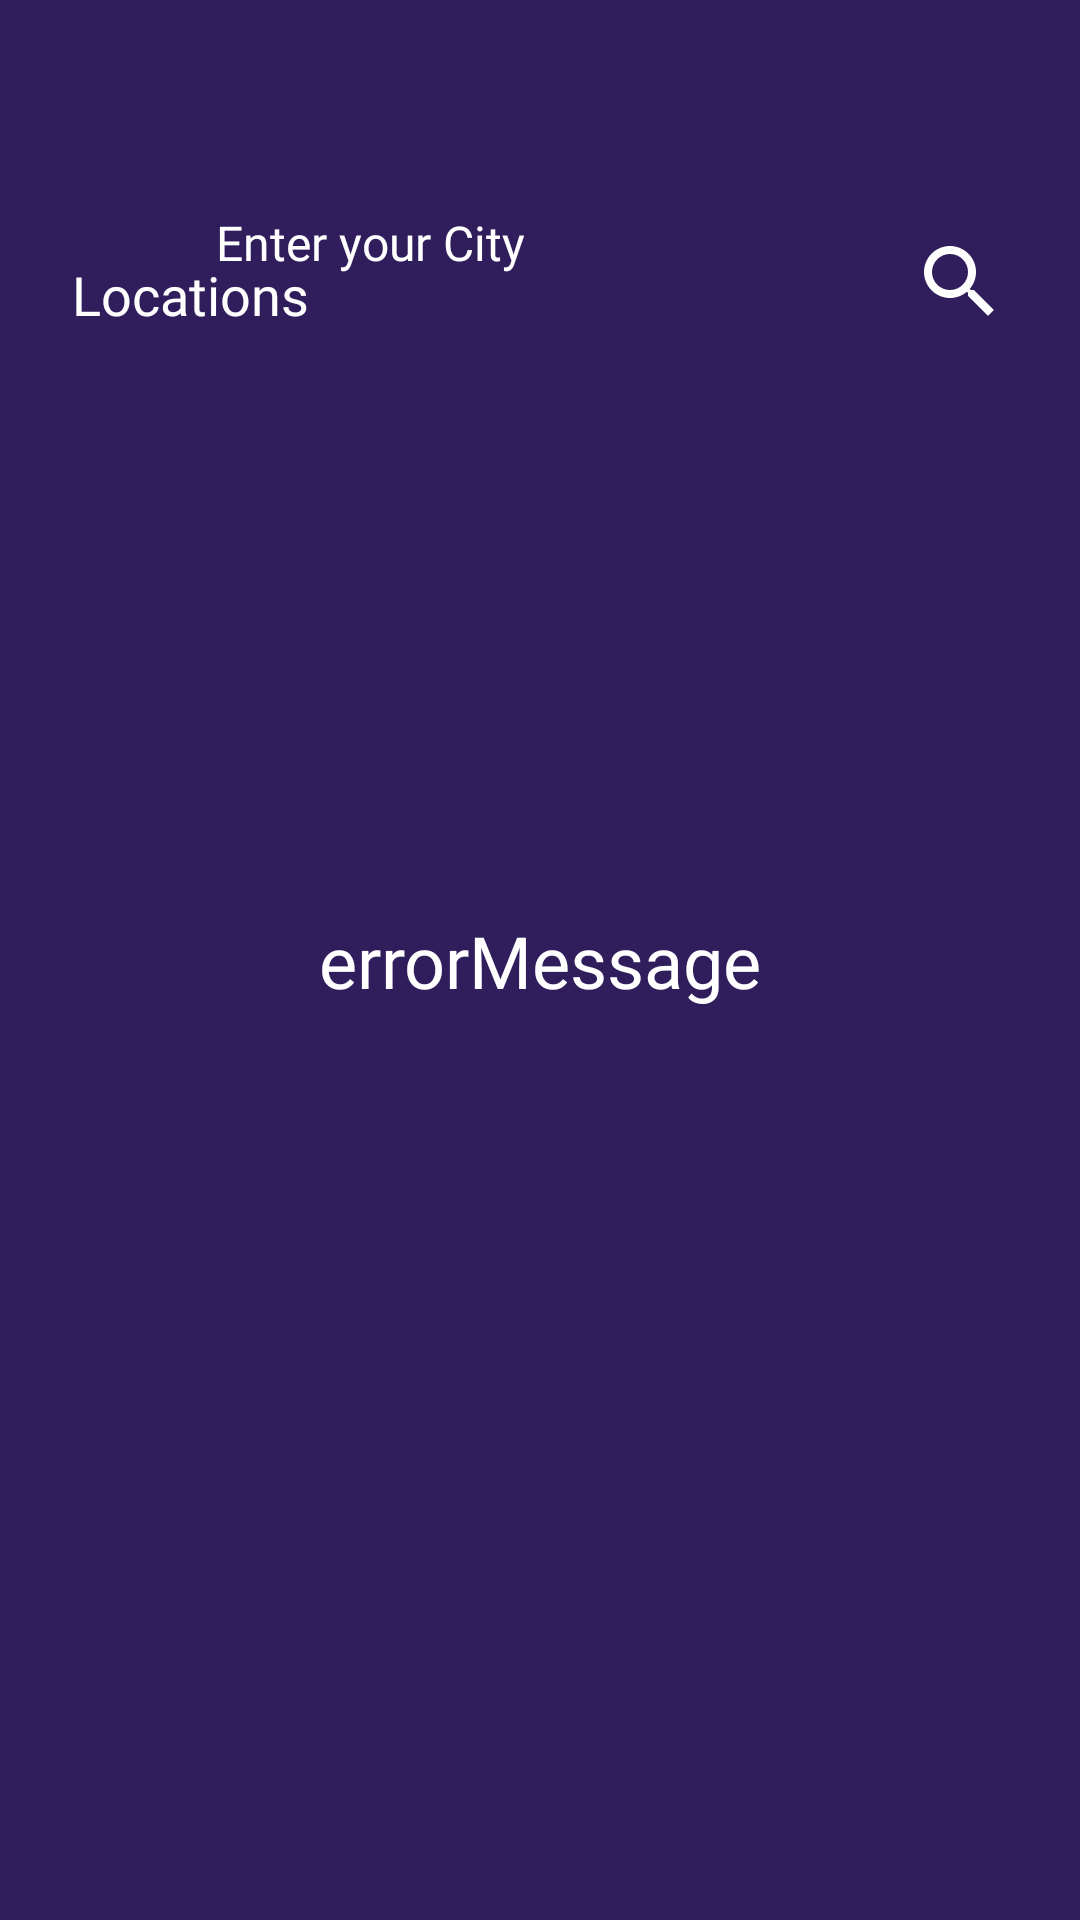

Named icons in this screenshot (1080 × 1920) and their bounding boxes, (x1, y1, x2, y2):
search: (924, 246, 994, 316)
